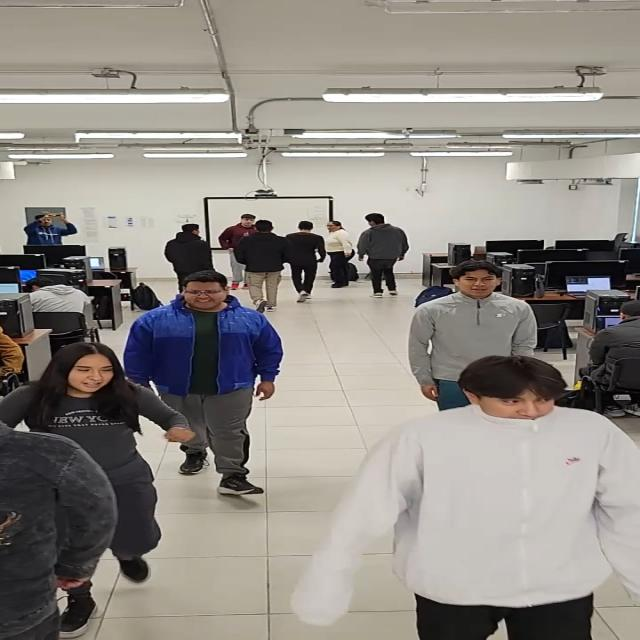Persona: (364, 210, 406, 301), (244, 221, 288, 299), (162, 220, 214, 277), (18, 210, 82, 250), (329, 219, 363, 286), (296, 222, 320, 302), (639, 639, 640, 640)
